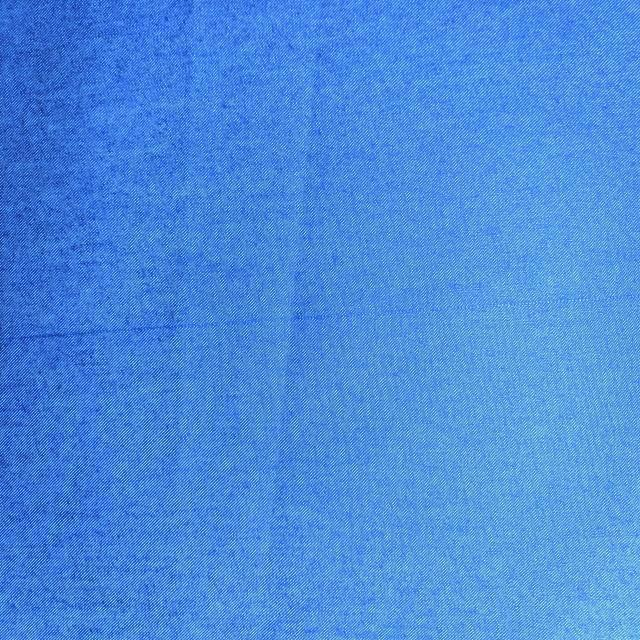Line: (0, 285, 638, 347)
